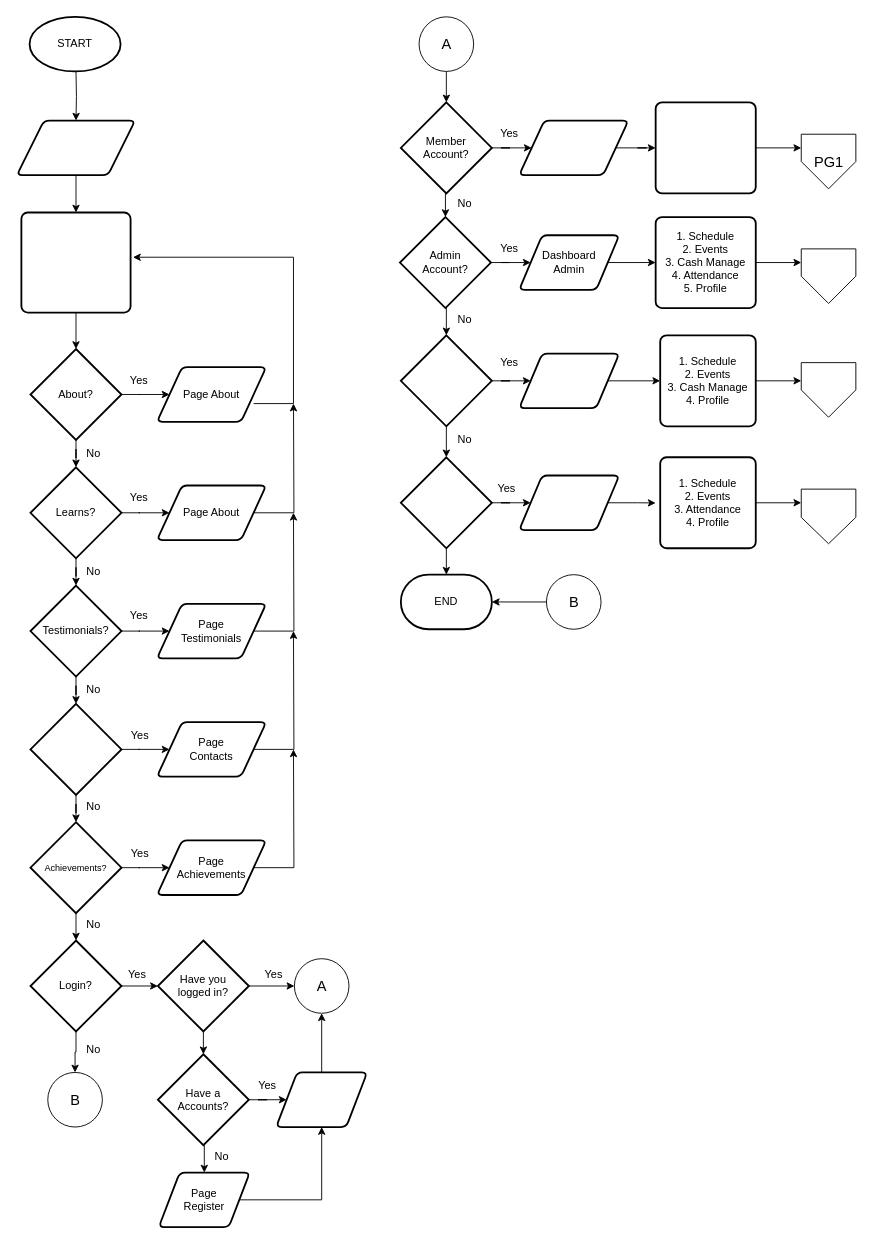
Some shapes in this 872 by 1243 pixel diagram are drawn without their labels. The shapes that lost their labels are listed below. From the top down, each one's box as (x1, y1, x2, y2) in pixels, then its label:
(15, 119, 136, 176): Page Home
(518, 119, 629, 176): Dashboard Member
(654, 101, 756, 194): 1. Schedule 2.Events 3. Profile
(20, 211, 131, 313): 1. About 2. Learns 3. Testimonials 4. Contacts 5. Achievements 6.Login
(800, 248, 856, 303): PG2
(399, 334, 492, 427): Bendahara Account?
(518, 352, 620, 409): Dashboard Bendahara
(800, 362, 856, 417): PG3
(399, 456, 492, 549): Sekretaris Account?
(518, 474, 620, 531): Dashboard Sekretaris
(800, 488, 856, 544): PG4
(29, 703, 122, 795): Contacts?
(275, 1071, 368, 1127): Page Login
